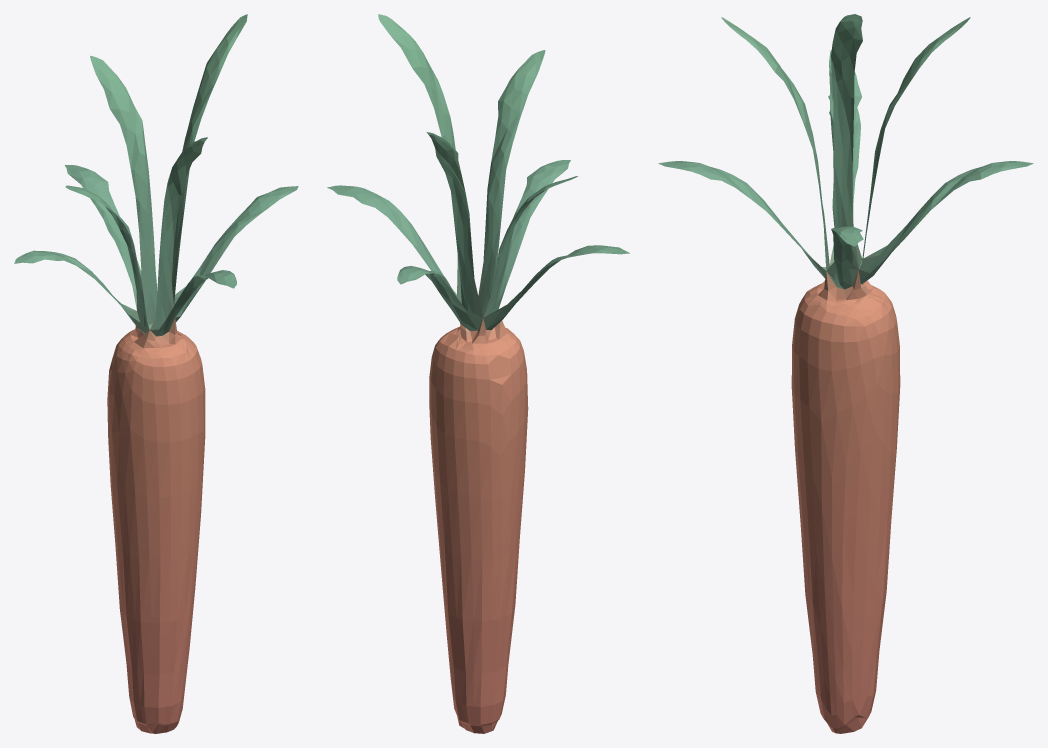
File: carrot.glb
3 renders of one model, left to right at view 1: azimuth 30°, elevation 25°; view 2: azimuth 150°, elevation 25°; view 3: azimuth 270°, elevation 25°, orthographic. The views are drawn at different scales.
Size of the model in its own units: 0.3133 by 0.7056 by 0.3133.
